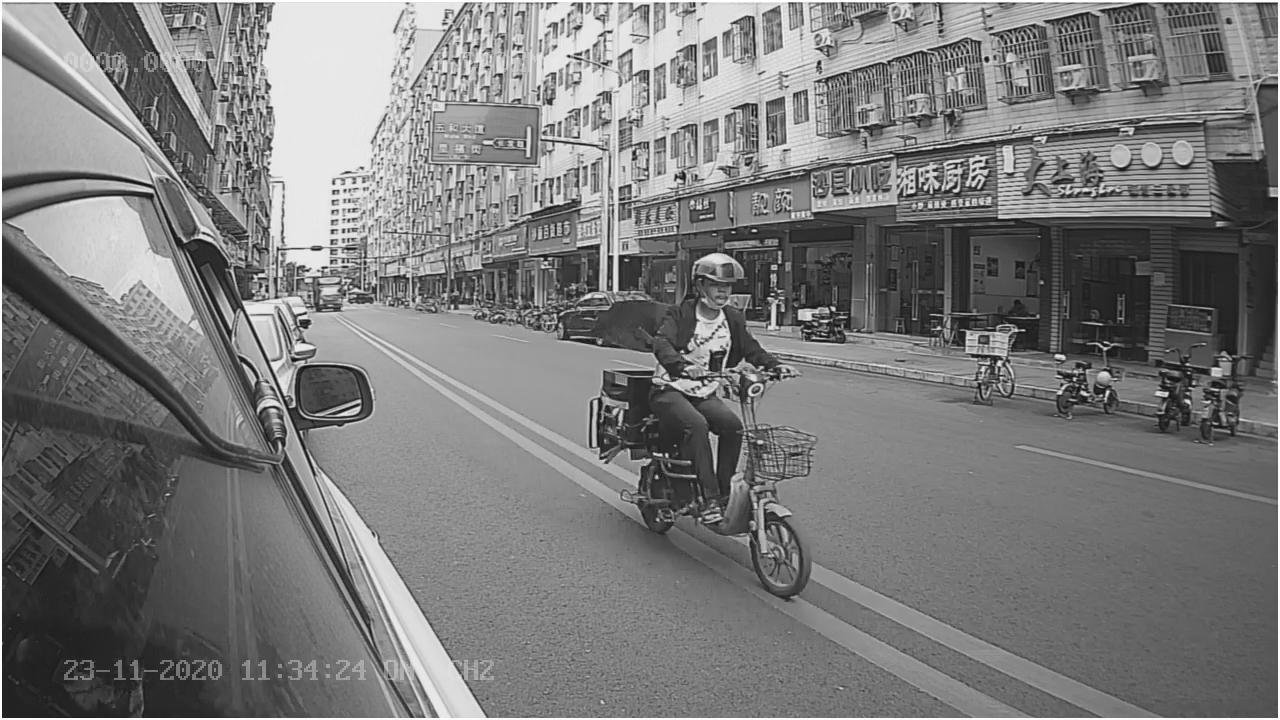person: (651, 240, 773, 376)
